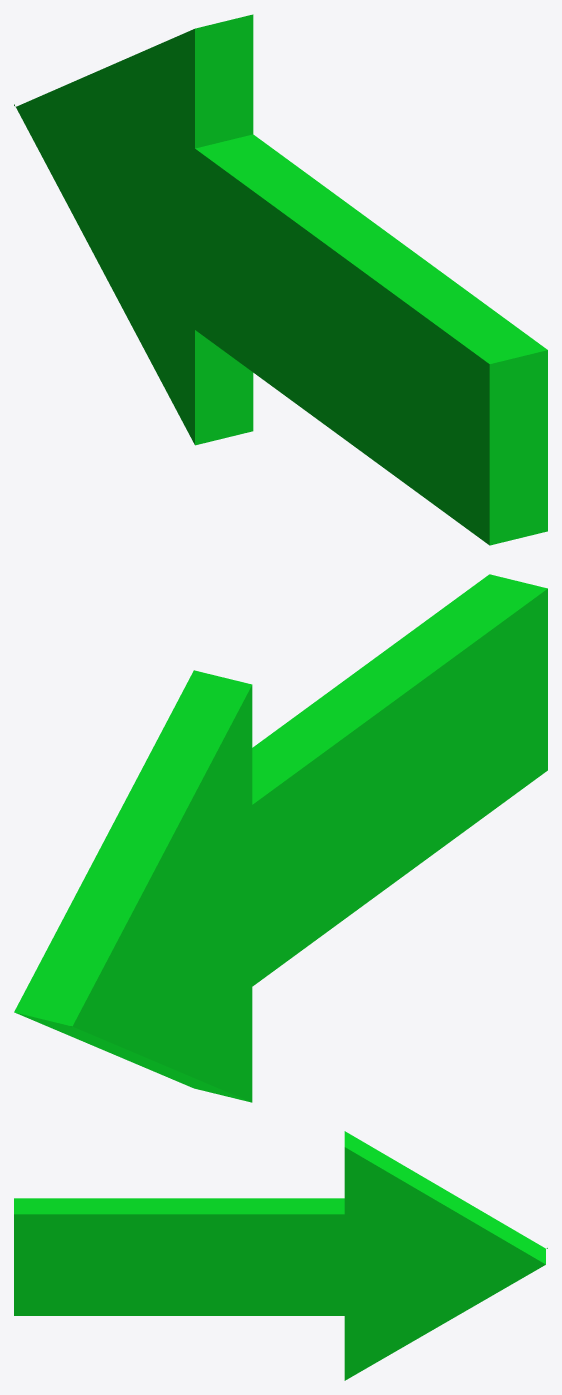
The picture shows the model from 3 angles, top to bottom: view 1: azimuth 30°, elevation 25°; view 2: azimuth 150°, elevation 25°; view 3: azimuth 270°, elevation 25°; orthographic projection. The views are drawn at different scales.
Visible parts, largest first — view 1: b67d0ae350cf09e7d246ff8b19ddce36; view 2: b67d0ae350cf09e7d246ff8b19ddce36; view 3: b67d0ae350cf09e7d246ff8b19ddce36.
Part boxes in pixels (x1,y1,x2,y2): b67d0ae350cf09e7d246ff8b19ddce36: (14,14,547,545); b67d0ae350cf09e7d246ff8b19ddce36: (14,574,547,1102); b67d0ae350cf09e7d246ff8b19ddce36: (14,1131,547,1380).
Bounding box in the file's own units: 8.23 × 56.24 × 116.
